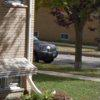Tree: (52, 2, 100, 74)
